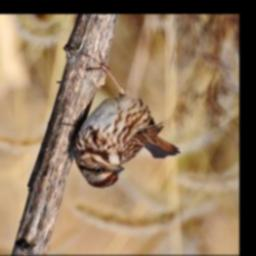Sparrow: (70, 51, 183, 190)
